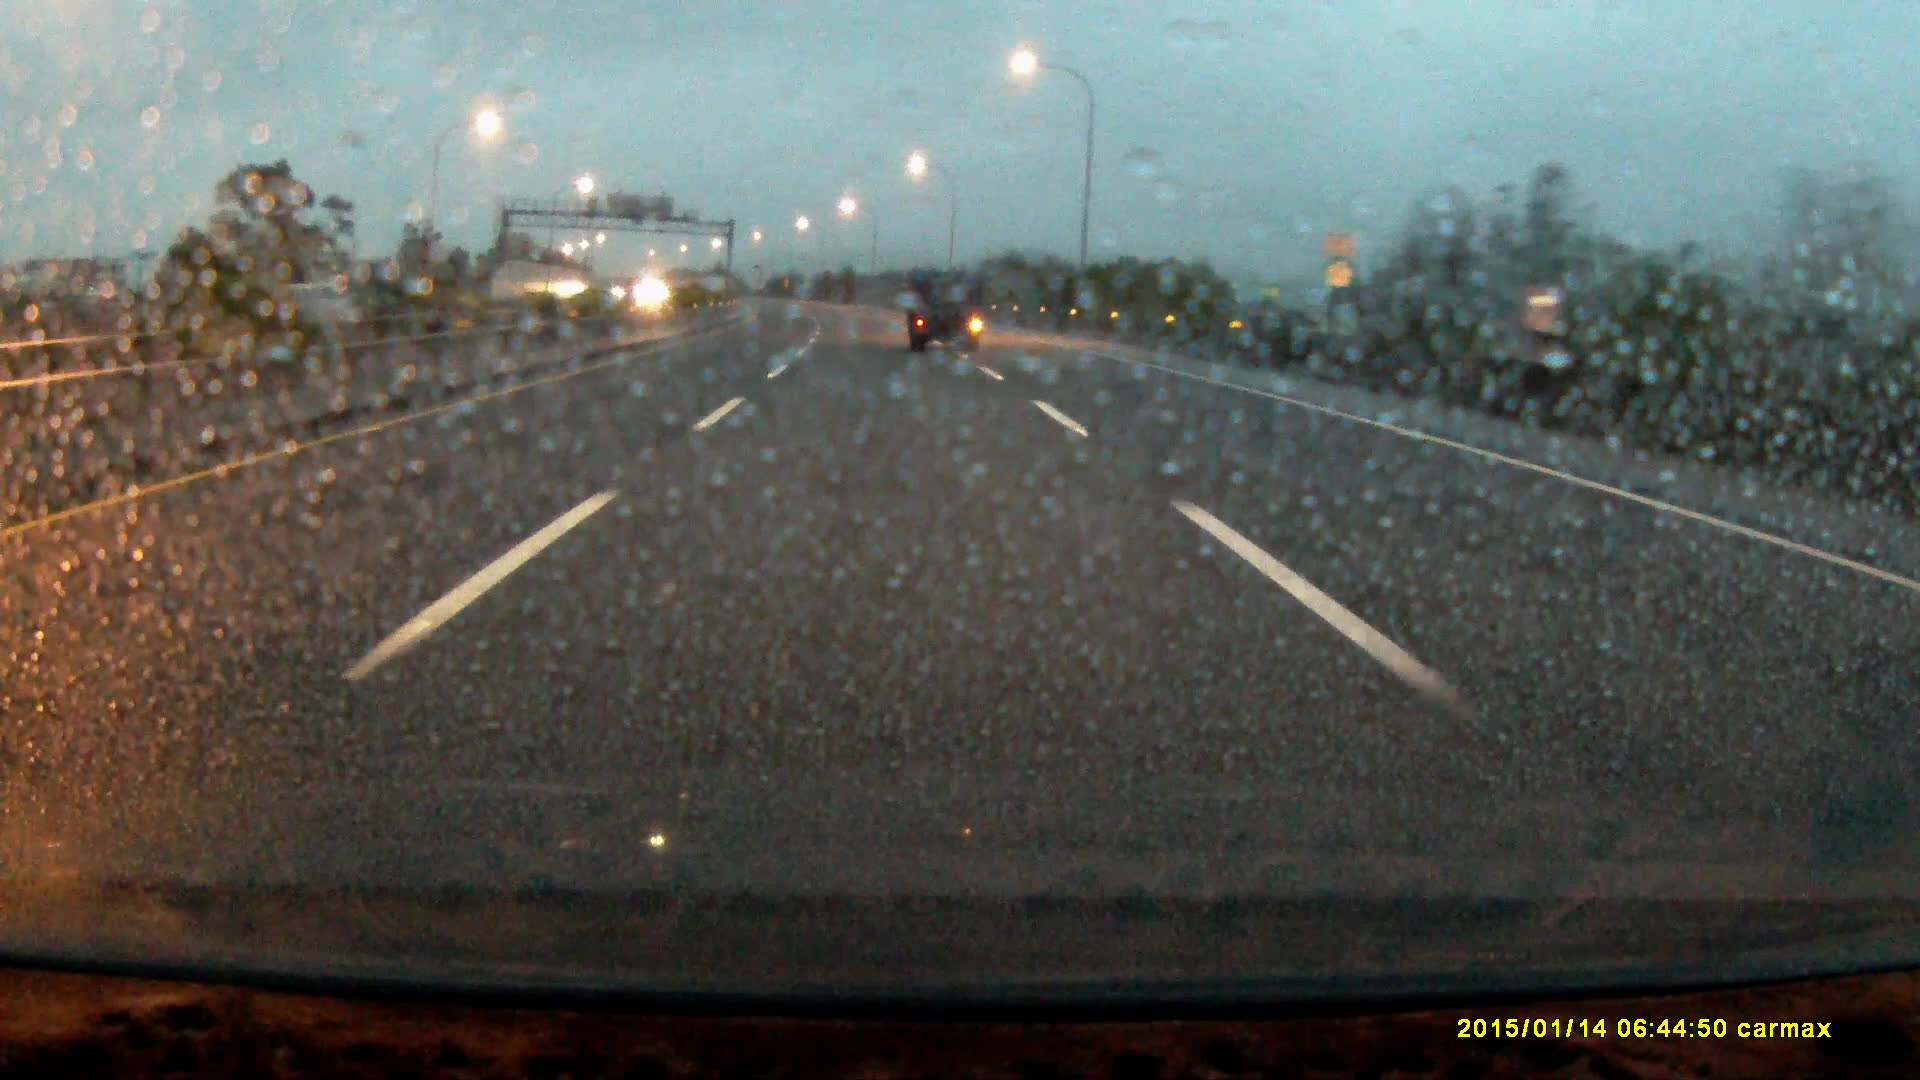vehicle: (907, 272, 984, 355)
